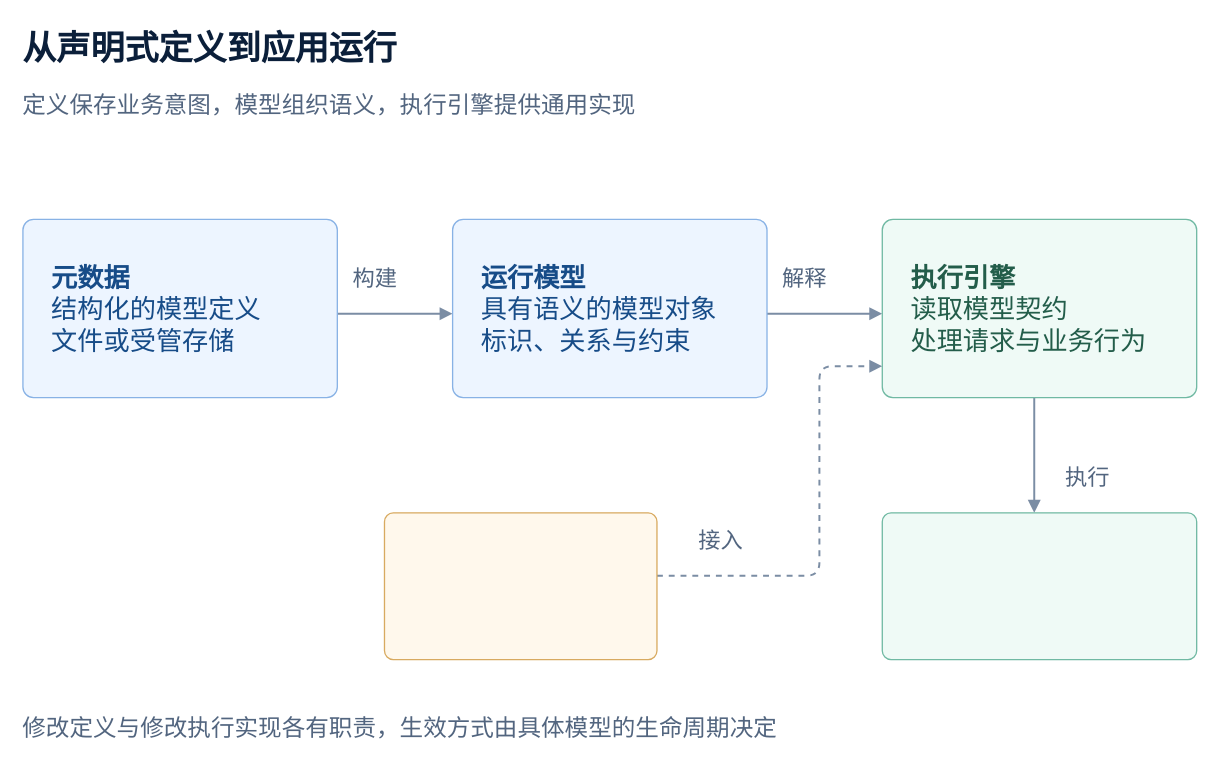
The diagram is 1220 pixels wide and 765 high, and some of its shapes have lost their labels. The box of each missing label's shape, as (x1, y1, x2, y2) in pixels:
代码扩展 按扩展契约接入: (383, 512, 657, 660)
应用能力 页面、数据与业务服务: (881, 512, 1197, 660)
